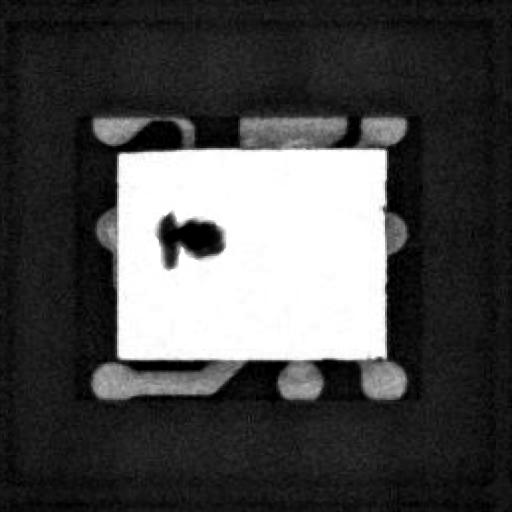DIE_INK: (151, 208, 230, 268)
